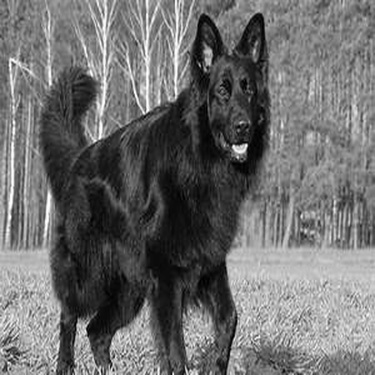dog: (13, 6, 282, 373)
